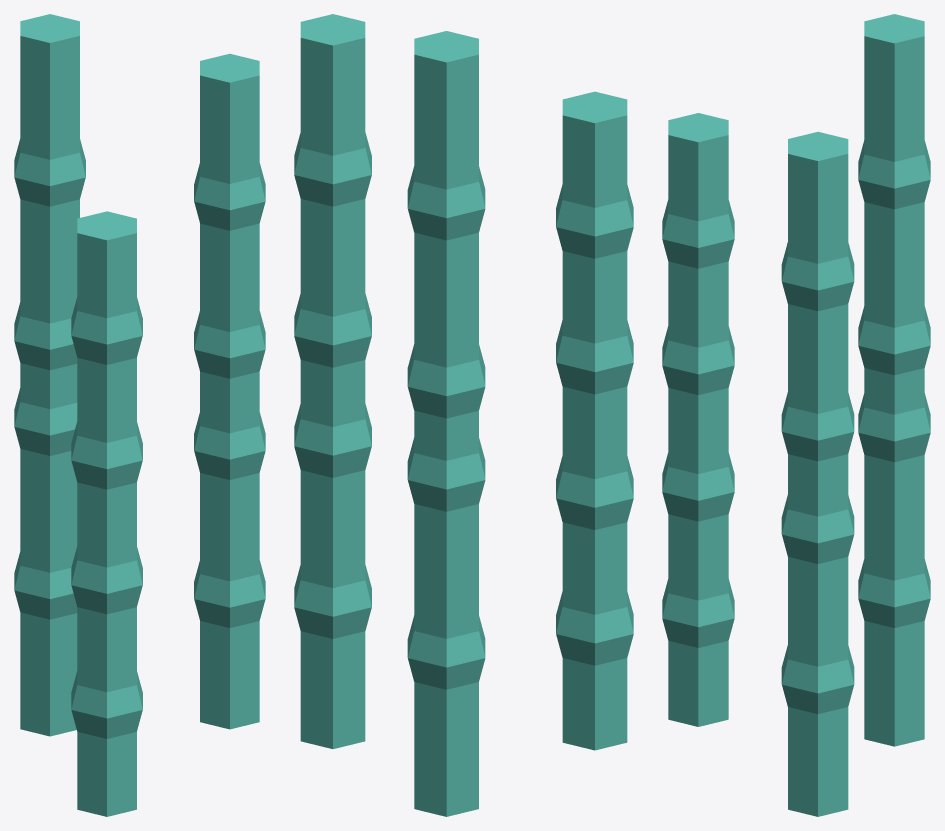
The model's file is crops_bambooStageB.glb.
The picture shows the model from 3 angles, left to right: view 1: azimuth 30°, elevation 25°; view 2: azimuth 150°, elevation 25°; view 3: azimuth 270°, elevation 25°; orthographic projection. The views are drawn at different scales.
Visible parts, largest first — view 1: crops_bambooStageB; view 2: crops_bambooStageB; view 3: crops_bambooStageB.
Boxes of the visible parts, x1,y1,x2,y2 form: crops_bambooStageB: (14,14,265,816); crops_bambooStageB: (294,14,633,816); crops_bambooStageB: (662,14,930,816).
Size of the model in its own units: 0.3401 by 0.89 by 0.308.
